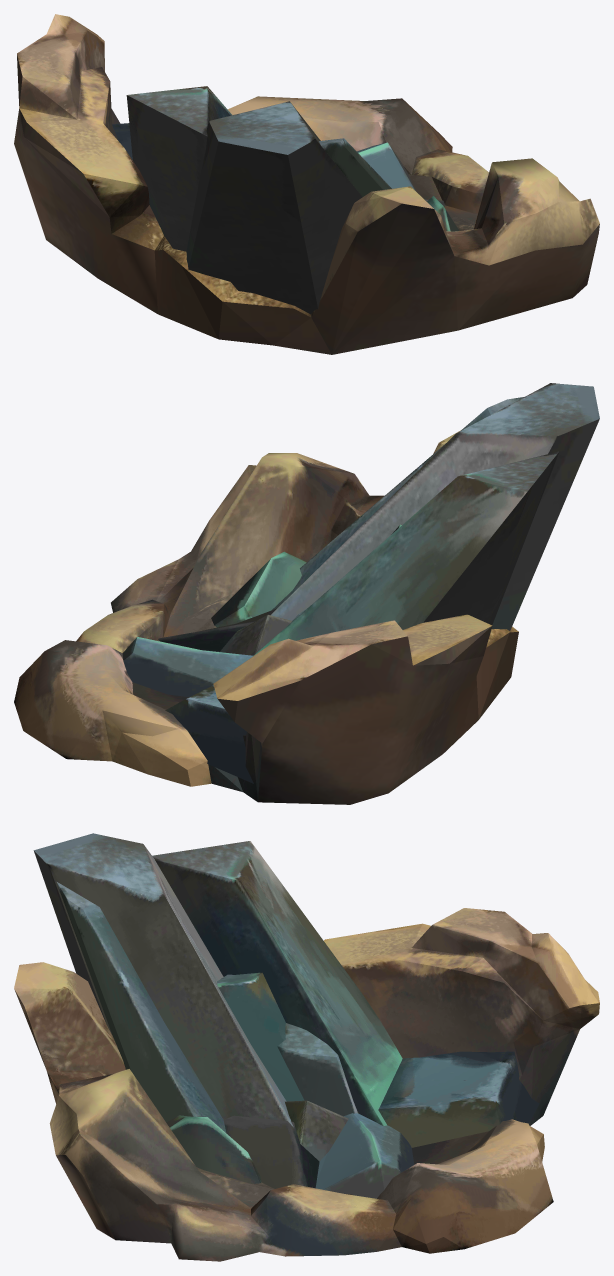
Rendered from S_survive_iron.fbx.
3 renders of one model, top to bottom at view 1: azimuth 30°, elevation 25°; view 2: azimuth 150°, elevation 25°; view 3: azimuth 270°, elevation 25°, orthographic. The views are drawn at different scales.
Parts seen in each view (by area): view 1: S_survive_iron; view 2: S_survive_iron; view 3: S_survive_iron.
Part boxes in pixels (x1,y1,x2,y2): S_survive_iron: (14, 14, 599, 354); S_survive_iron: (14, 383, 599, 804); S_survive_iron: (14, 833, 599, 1261).
Size of the model in its own units: 1.05 by 0.5764 by 1.26.
1 material, 1 textured.
